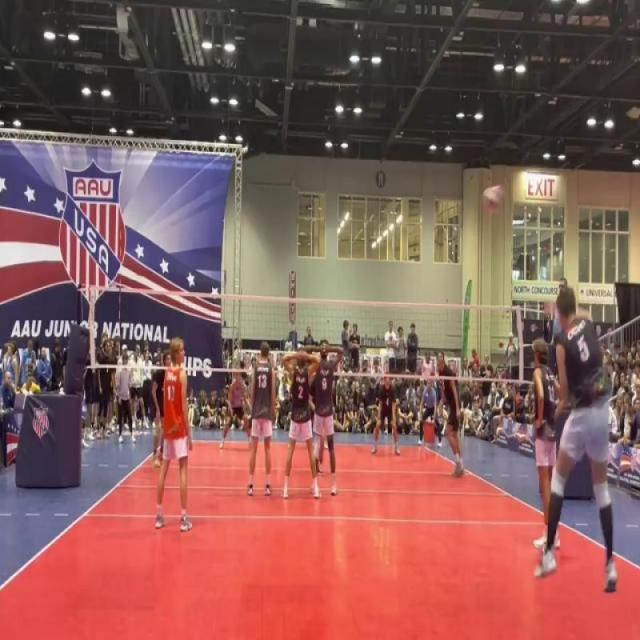volleyball: (481, 186, 507, 216)
